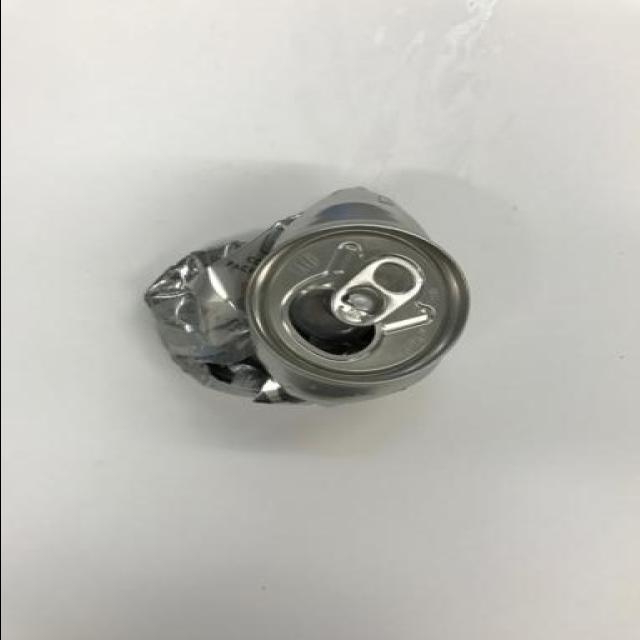litter: (115, 168, 493, 428)
